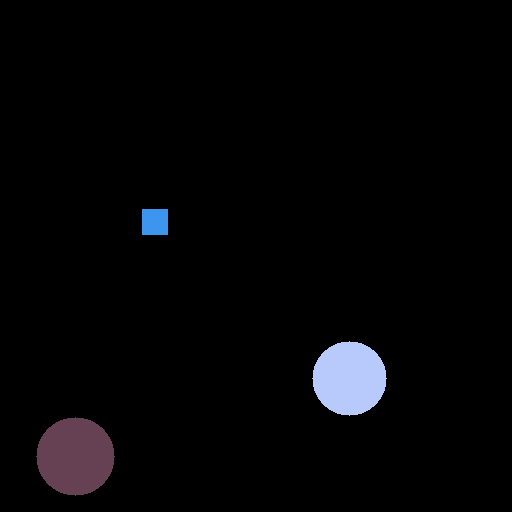circle: (310, 339, 391, 417), (37, 418, 116, 497)
square: (137, 205, 173, 241)
